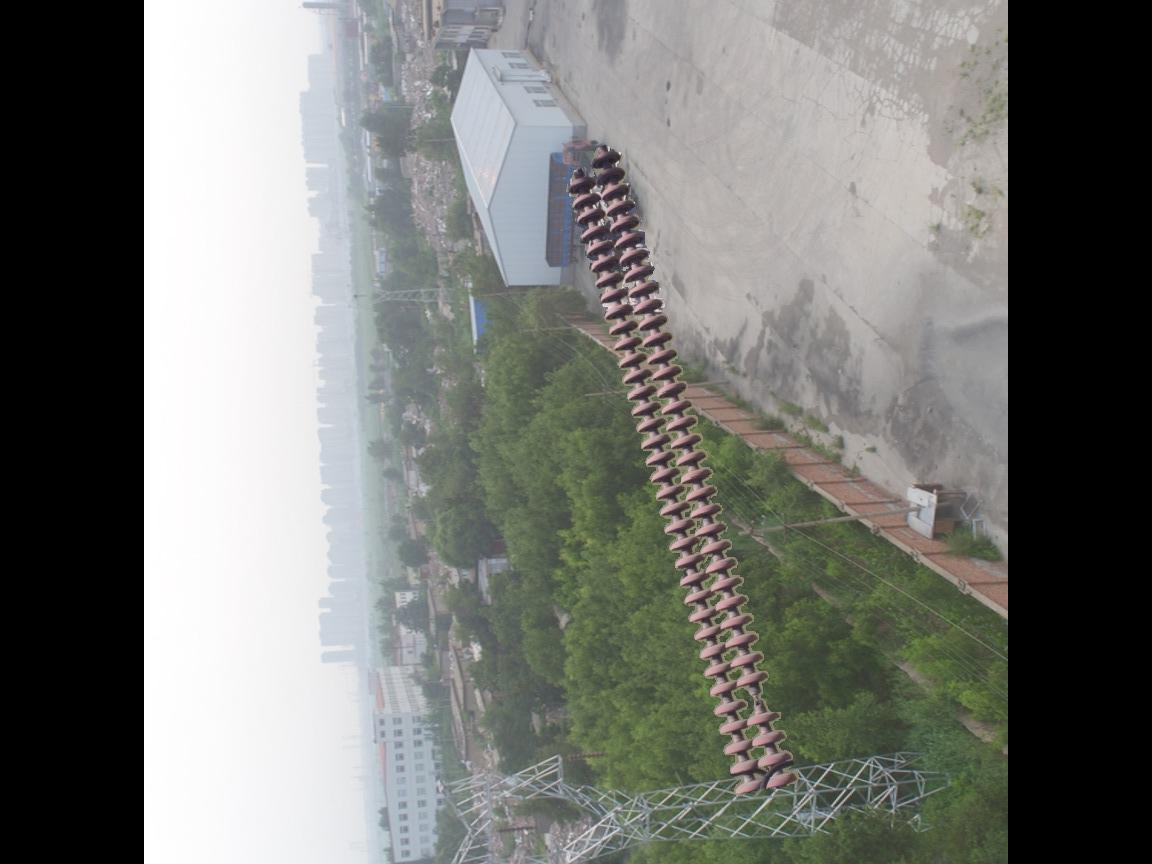insulator: (563, 141, 801, 801)
insulator_stringdrop: (734, 668, 784, 731)
